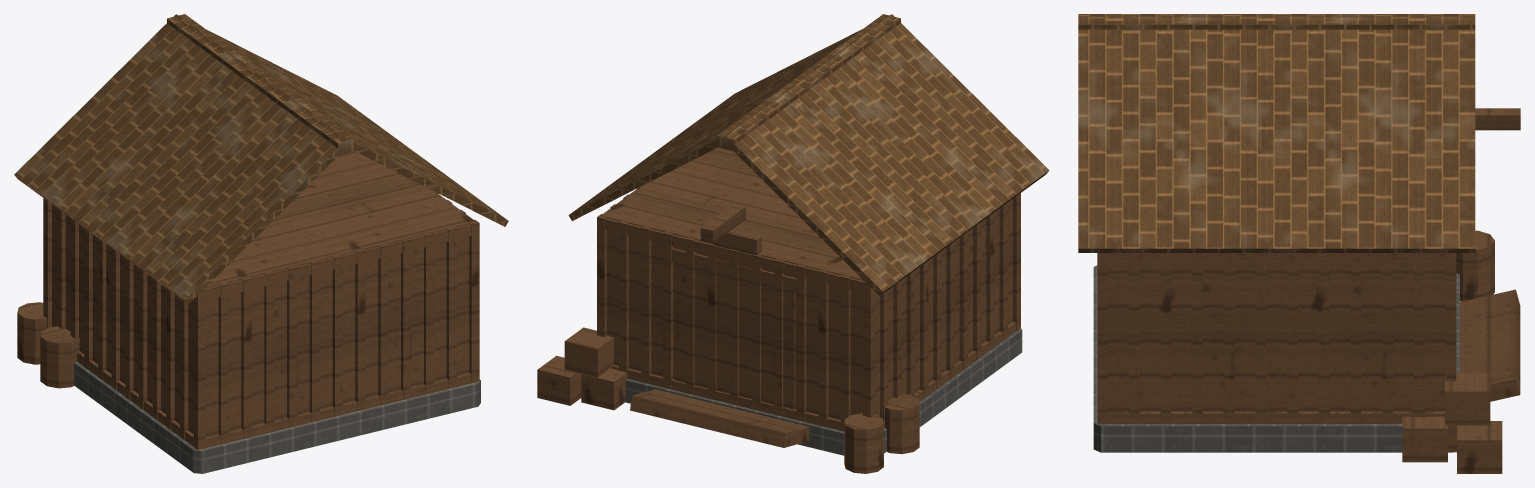
The model's file is barn.gltf.
The picture shows the model from 3 angles, left to right: view 1: azimuth 30°, elevation 25°; view 2: azimuth 150°, elevation 25°; view 3: azimuth 270°, elevation 25°; orthographic projection. The views are drawn at different scales.
Parts seen in each view (by area): view 1: Barn; view 2: Barn; view 3: Barn.
Boxes of the visible parts, left/top/right/bottom form: Barn: left=14, top=14, right=508, bottom=473; Barn: left=537, top=14, right=1049, bottom=473; Barn: left=1078, top=14, right=1520, bottom=473.
Bounding box in the file's own units: 3.06 × 2.59 × 2.92.
6 materials, 5 textured.
